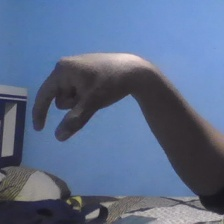Q: (30, 47, 133, 143)
